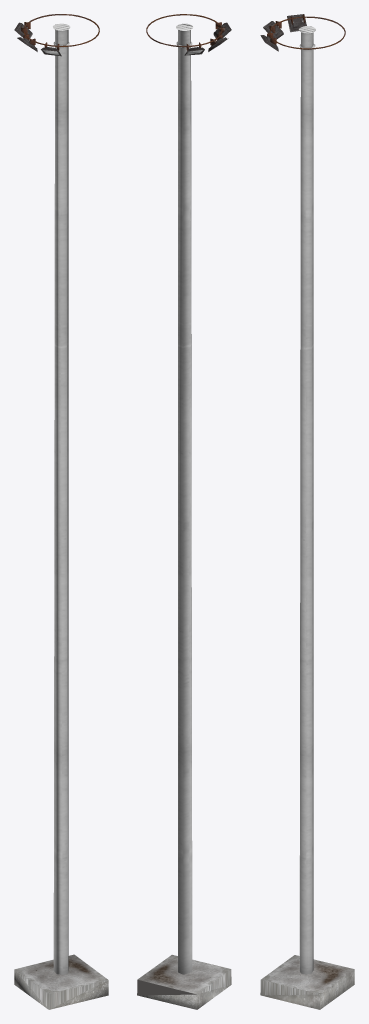
File: spotlight.glb
3 renders of one model, left to right at view 1: azimuth 30°, elevation 25°; view 2: azimuth 150°, elevation 25°; view 3: azimuth 330°, elevation 25°, orthographic.
Visible parts, largest first — view 1: lighting_mast_lighting_mast_0; view 2: lighting_mast_lighting_mast_0; view 3: lighting_mast_lighting_mast_0.
Part boxes in pixels (bbox=[...]): lighting_mast_lighting_mast_0: bbox=[14, 14, 108, 1009]; lighting_mast_lighting_mast_0: bbox=[137, 14, 231, 1009]; lighting_mast_lighting_mast_0: bbox=[260, 14, 354, 1009].
Size of the model in its own units: 0.8572 by 10.71 by 0.7952.
1 material, 1 textured.
